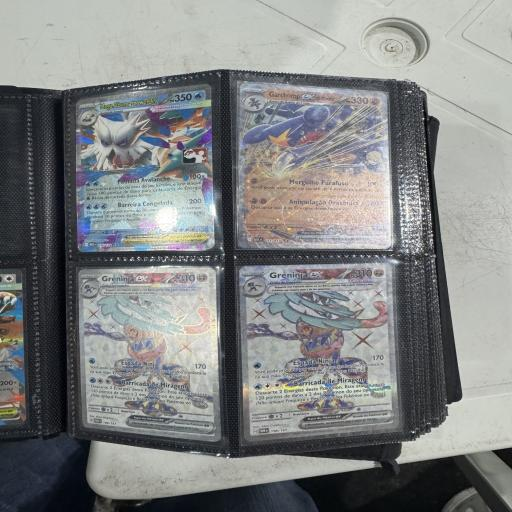card: (239, 262, 401, 443), (236, 82, 395, 250), (78, 266, 223, 446), (75, 83, 216, 253)
